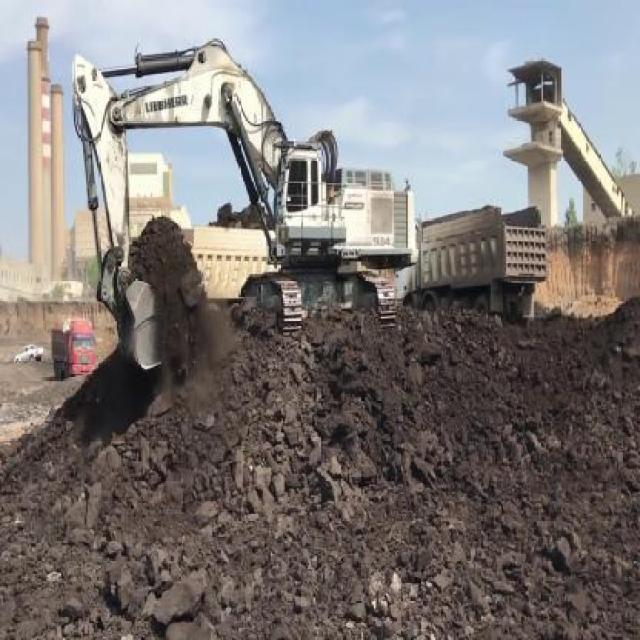dump_truck: (419, 200, 547, 322), (178, 222, 280, 307), (49, 318, 102, 379)
excavator: (66, 32, 419, 365)
